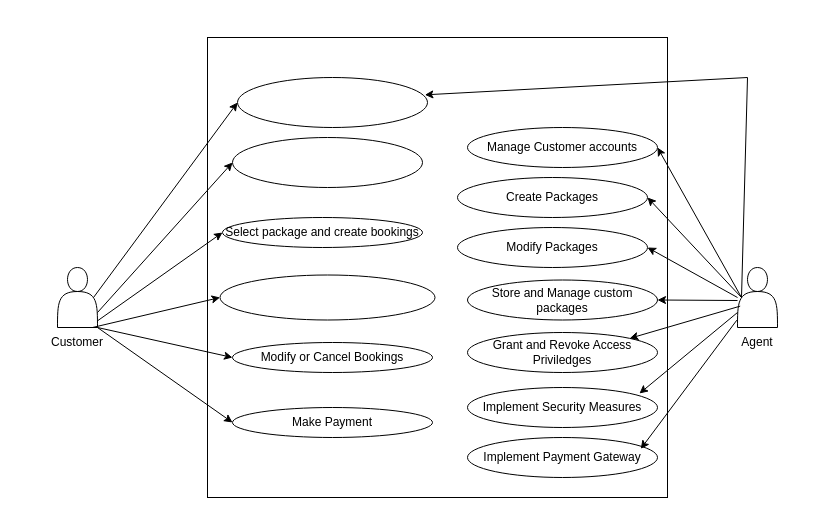
This 825x525 diagram has some shape labels left out. The centre of each missing label's shape, as x and y in pixels:
"Browse package, Search & filter packages" goes at (327,162).
"Create account, register & login" goes at (332,102).
"Create custom packages by selecting individual packages" goes at (327,297).
